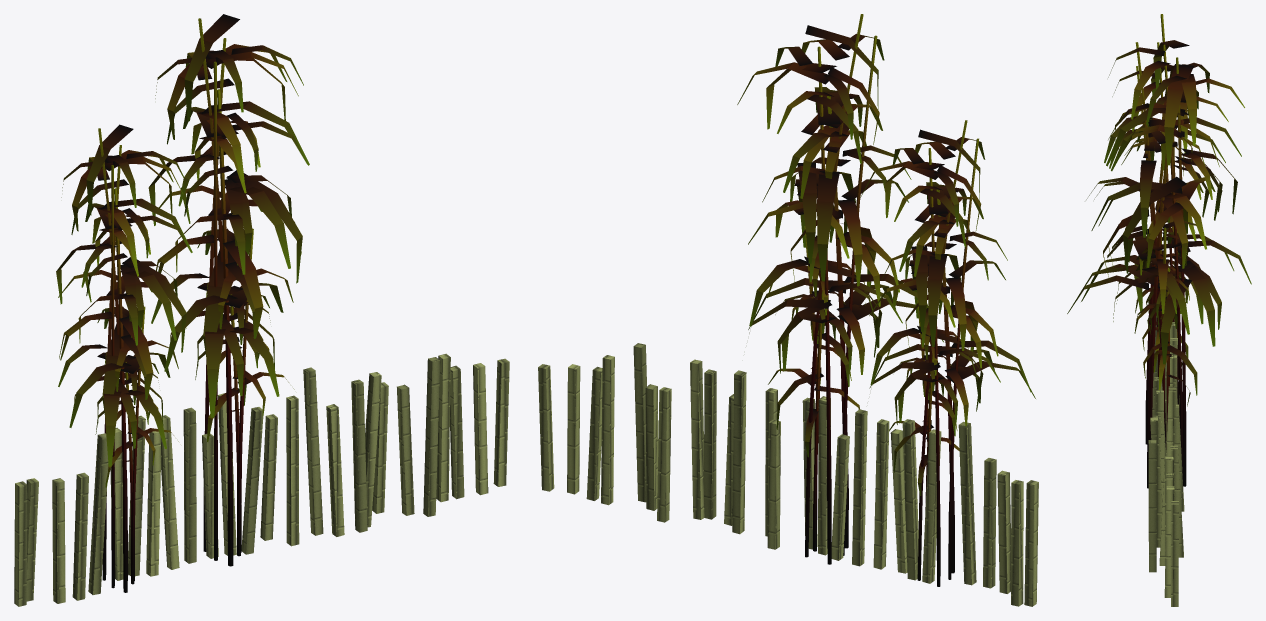
File: bamboo_hedge_01.glb
3 views of the same model, side by side, from view 1: azimuth 30°, elevation 25°; view 2: azimuth 150°, elevation 25°; view 3: azimuth 270°, elevation 25° (orthographic). The views are drawn at different scales.
Visible parts, largest first — view 1: bamboo_hedge_01, bamboo_hedge_01_veg_00_bamboo_c, bamboo_hedge_01_veg_01_bamboo_c; view 2: bamboo_hedge_01, bamboo_hedge_01_veg_00_bamboo_c, bamboo_hedge_01_veg_01_bamboo_c; view 3: bamboo_hedge_01_veg_00_bamboo_c, bamboo_hedge_01, bamboo_hedge_01_veg_01_bamboo_c.
Boxes of the visible parts, x1,y1,x2,y2 form: bamboo_hedge_01: [14, 353, 509, 606]; bamboo_hedge_01_veg_00_bamboo_c: [148, 14, 309, 566]; bamboo_hedge_01_veg_01_bamboo_c: [56, 124, 192, 592]; bamboo_hedge_01: [538, 343, 1038, 606]; bamboo_hedge_01_veg_00_bamboo_c: [737, 14, 943, 564]; bamboo_hedge_01_veg_01_bamboo_c: [860, 120, 1035, 586]; bamboo_hedge_01_veg_00_bamboo_c: [1067, 14, 1251, 488]; bamboo_hedge_01: [1147, 316, 1184, 606]; bamboo_hedge_01_veg_01_bamboo_c: [1084, 42, 1234, 444].
Bounding box in the file's own units: 8.18 × 8.64 × 3.12.
2 materials, 2 textured.
